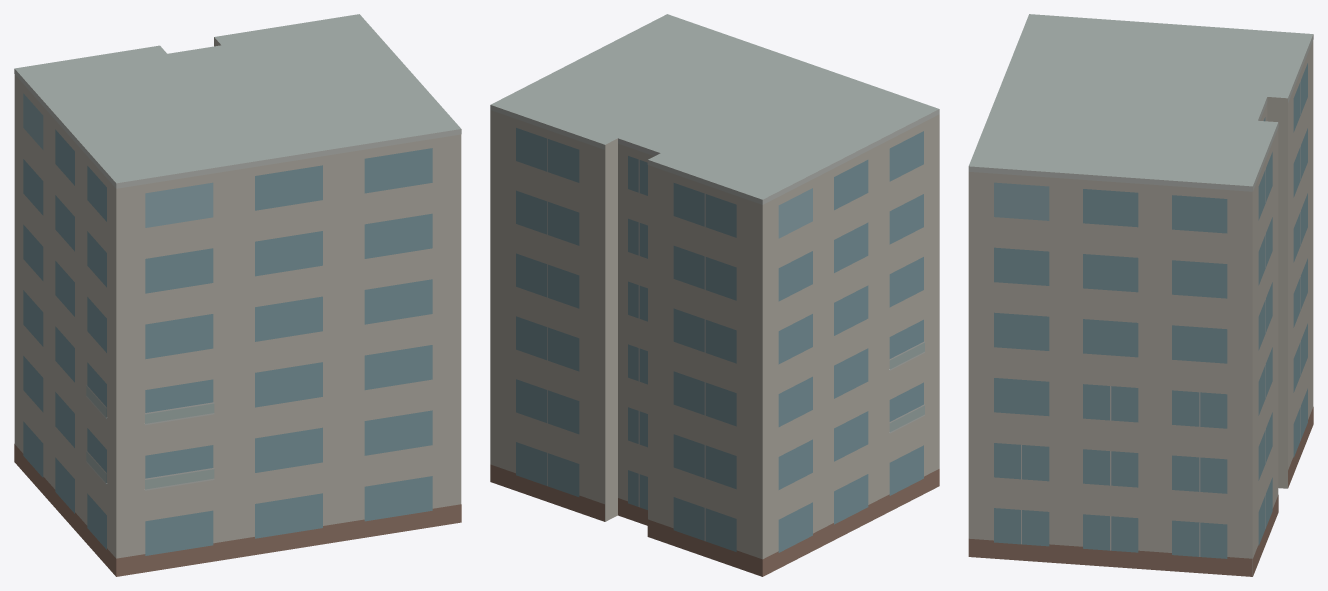
Rendered from survey-upis-32619884.glb.
The picture shows the model from 3 angles, left to right: view 1: azimuth 30°, elevation 25°; view 2: azimuth 150°, elevation 25°; view 3: azimuth 270°, elevation 25°; orthographic projection. The views are drawn at different scales.
Parts seen in each view (by area): view 1: survey-upis-32619884.tmp; view 2: survey-upis-32619884.tmp; view 3: survey-upis-32619884.tmp.
Boxes of the visible parts, x1,y1,x2,y2 form: survey-upis-32619884.tmp: (14, 14, 461, 576); survey-upis-32619884.tmp: (490, 14, 939, 576); survey-upis-32619884.tmp: (968, 14, 1313, 576).
Bounding box in the file's own units: 16.72 × 17.65 × 14.14.
